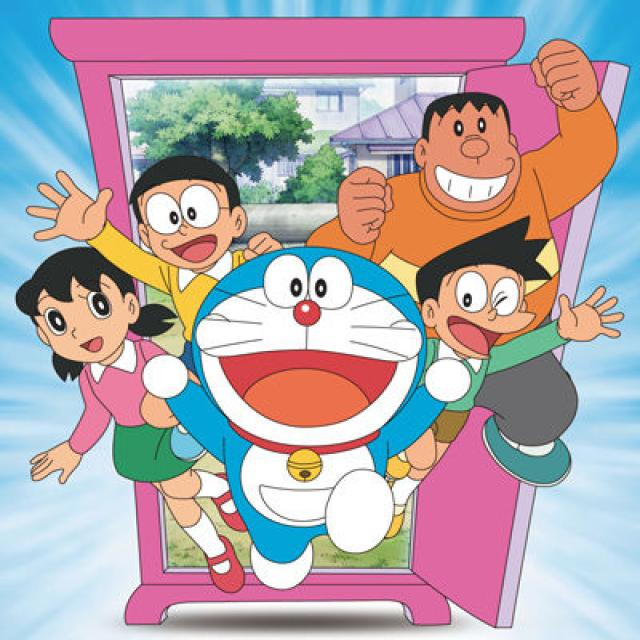doraemon: (187, 250, 429, 482)
jaian: (410, 88, 539, 221)
nobita: (125, 151, 246, 274)
shizuka: (11, 244, 181, 384)
suneo: (413, 212, 571, 368)
